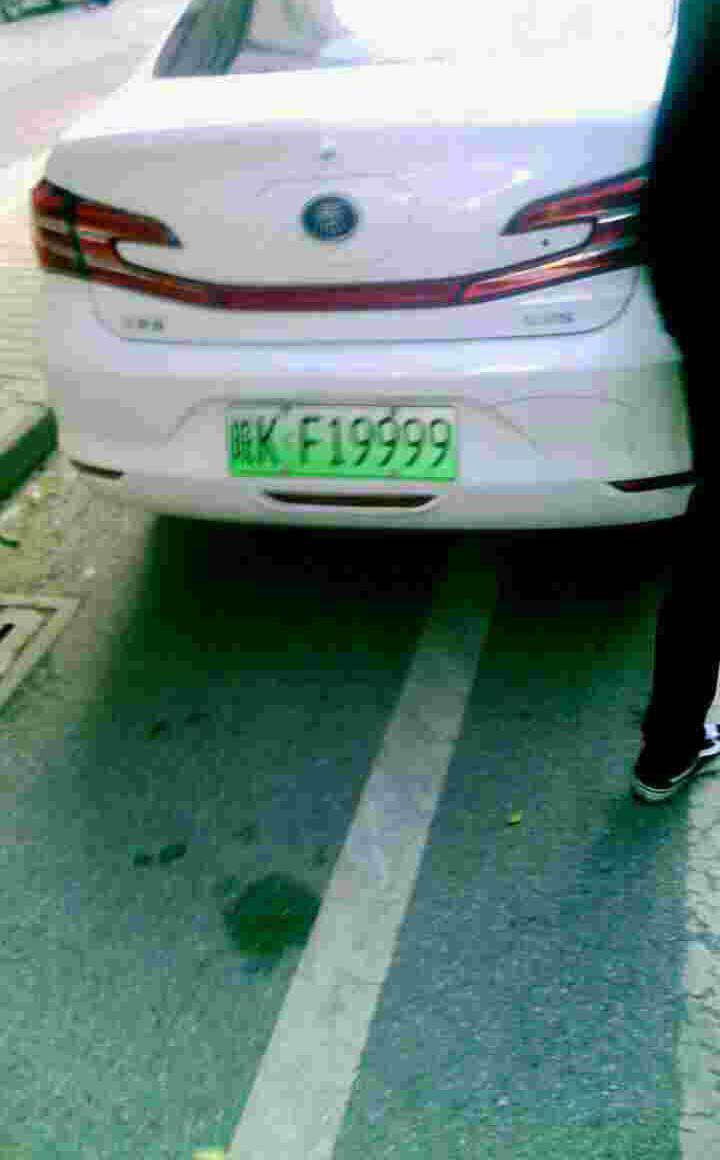car_id: (222, 404, 456, 481)
